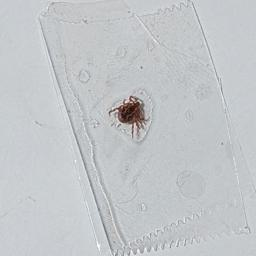Dermacentor variabilis: (108, 97, 147, 138)
